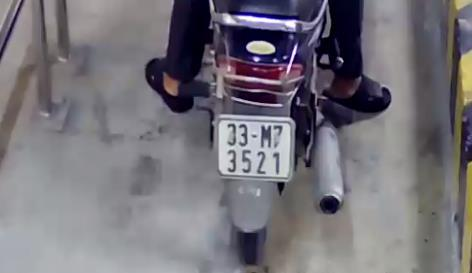lisence: (214, 115, 297, 181)
